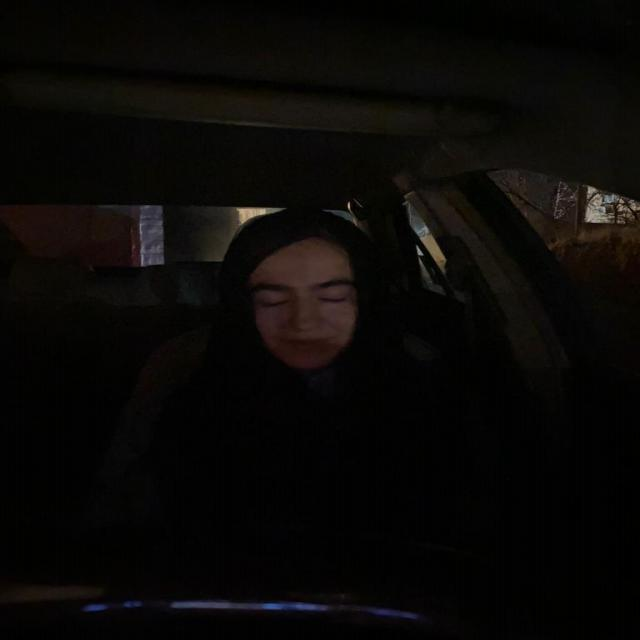drowsy: (232, 218, 392, 372)
